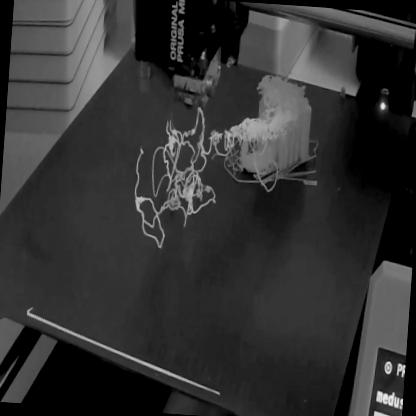fail: (130, 105, 237, 256)
